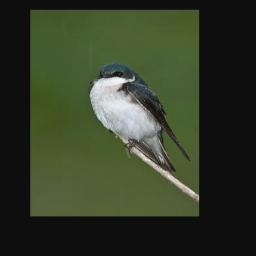Swallow: (86, 59, 191, 173)
